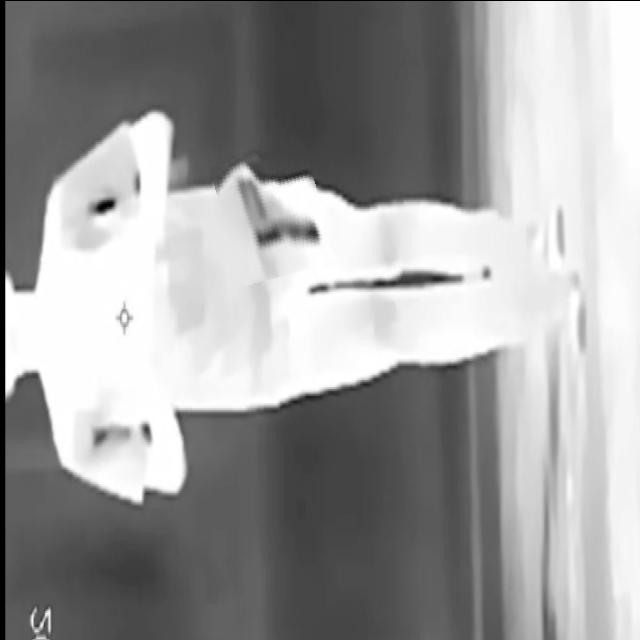Weapon: (218, 146, 330, 282)
